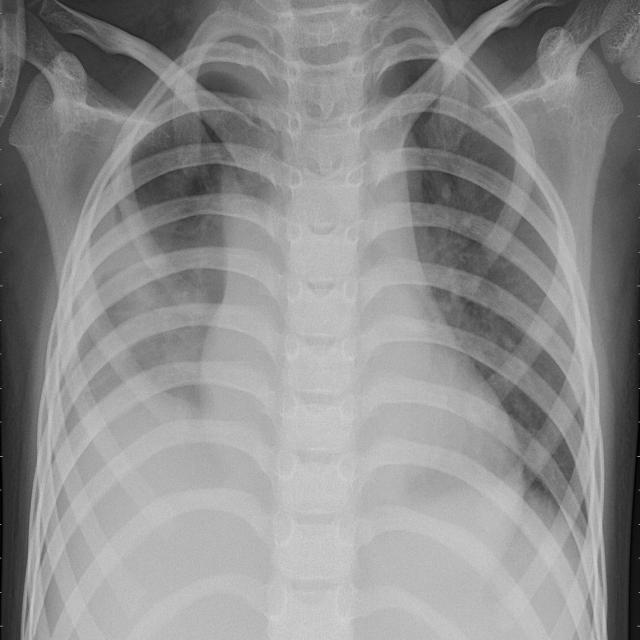low-pneumonia: (206, 127, 282, 254), (417, 188, 462, 321)
